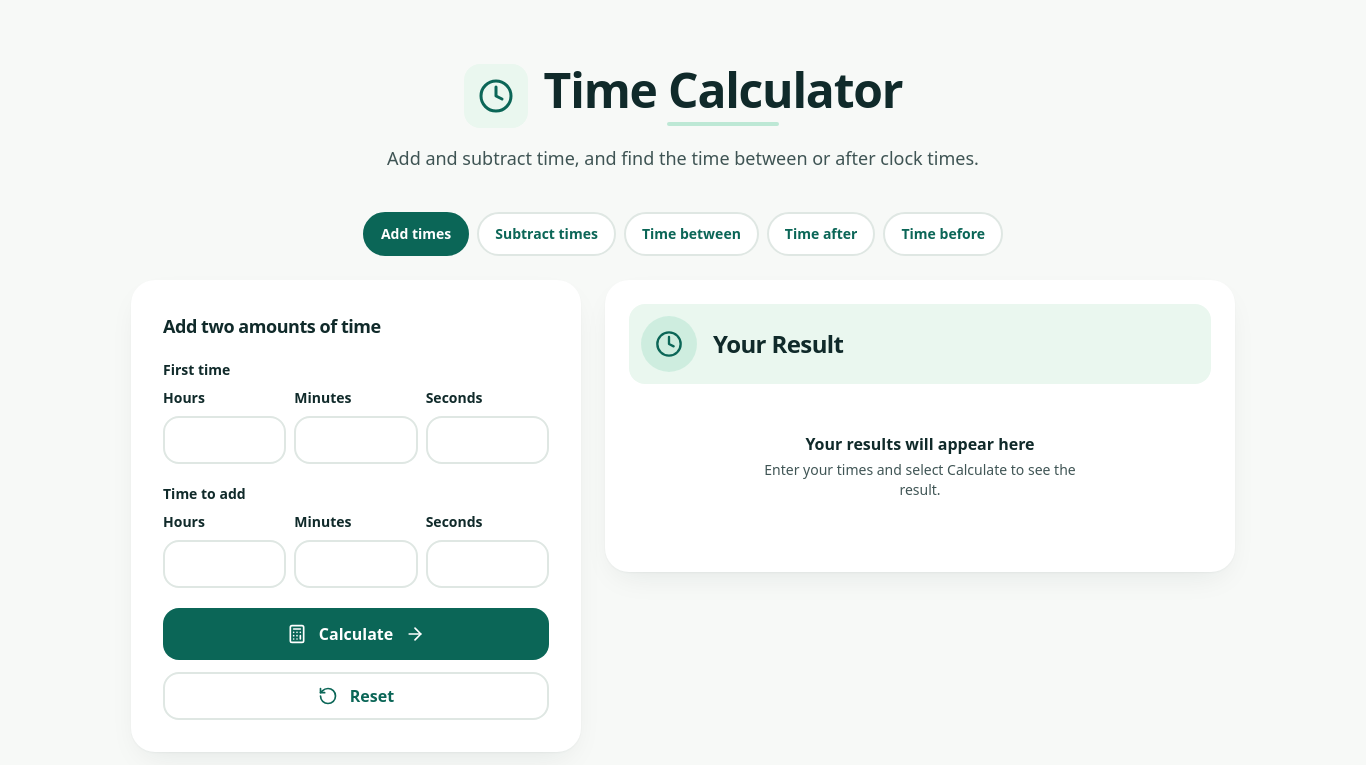
Time Calculator › shows errors and focuses the first invalid field
Click the button "Calculate" at coordinates (356, 634), box [163,608,549,660]
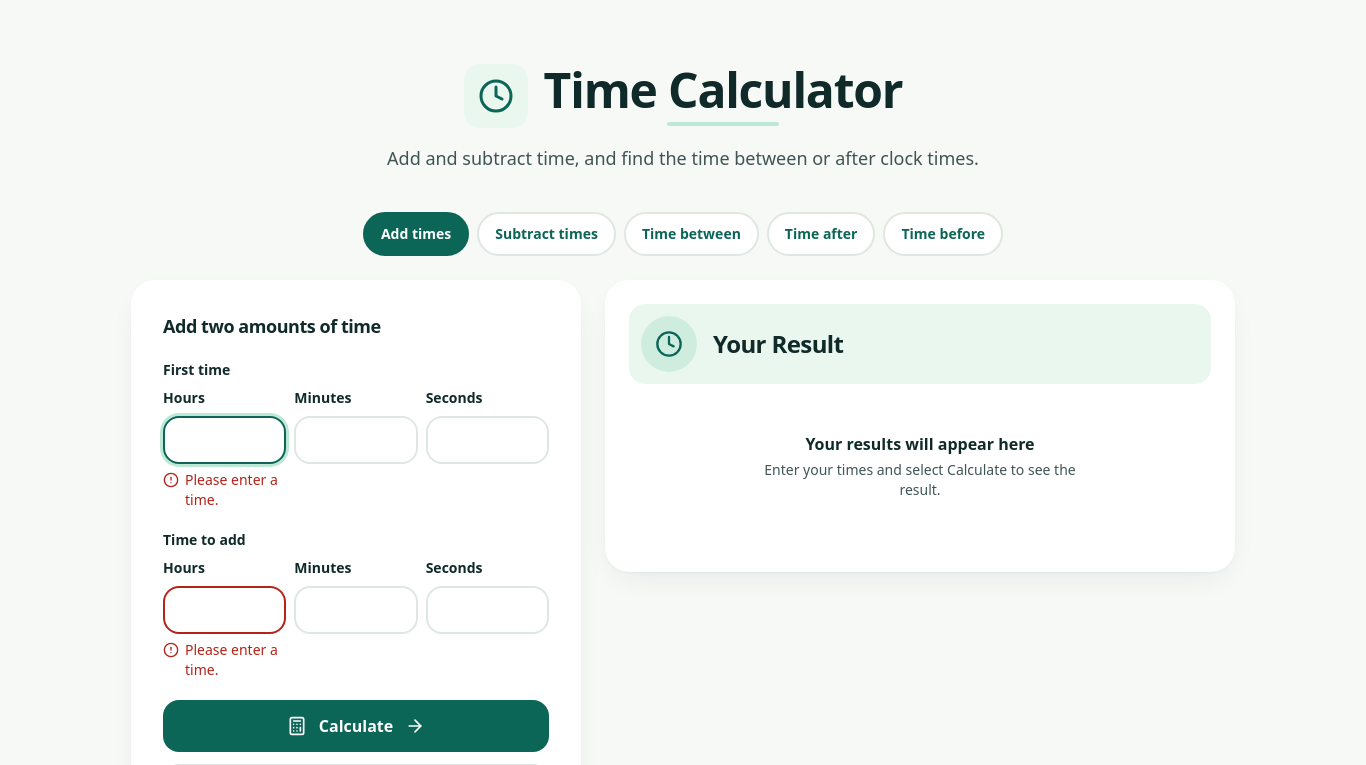
Check: the text "Please enter a time." is shown 2 times, box [163,470,286,510]; [163,640,286,680]
Click the button "Time between" at coordinates (691, 234), box [624,212,759,256]
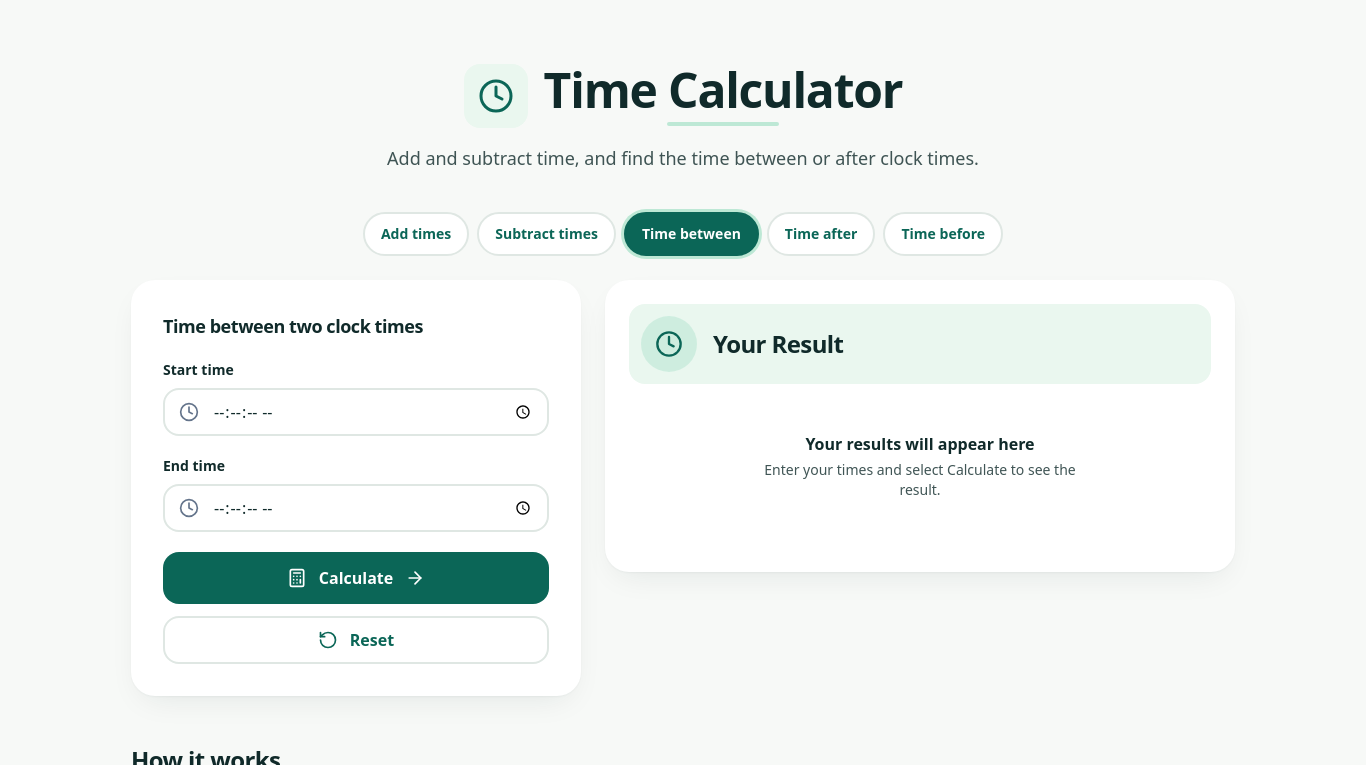
Click the button "Calculate" at coordinates (356, 578), box [163,552,549,604]
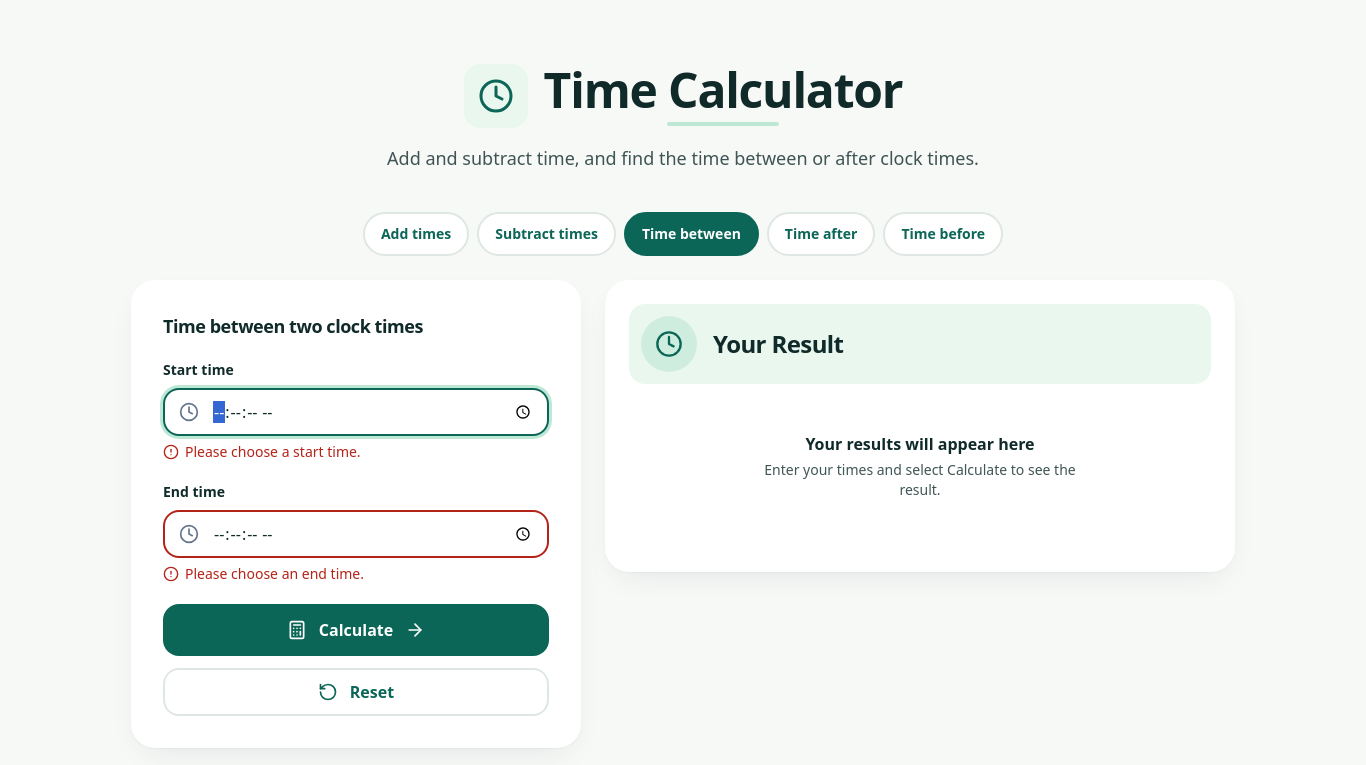
Check: the text "Please choose a start time." is shown, box [163,442,361,461]
